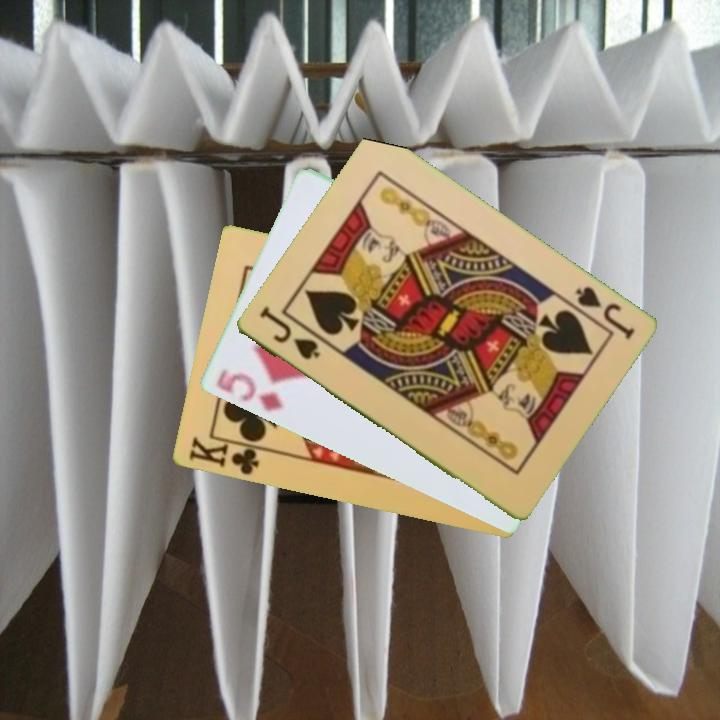5d: (212, 365, 285, 416)
Js: (571, 282, 638, 343), (255, 304, 323, 363)
Kc: (184, 433, 268, 479)
